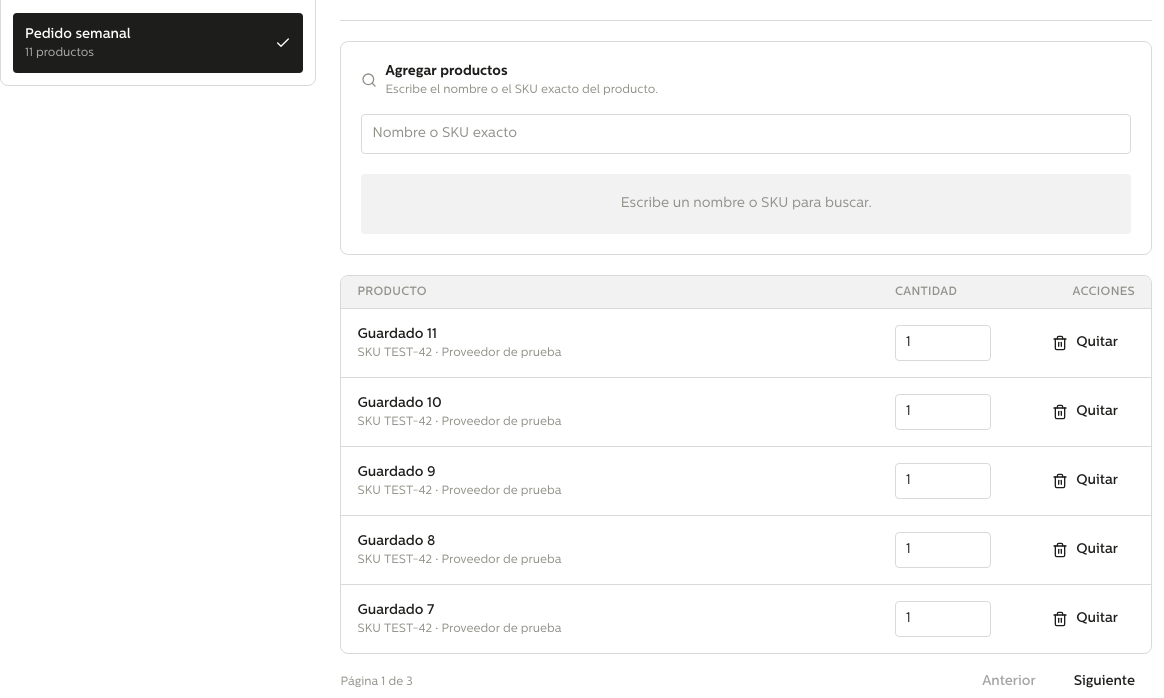
Test: editor de pedidos › muestra cinco por página y desplaza los más antiguos a las siguientes
(page scrolled)
Expected: the number of number fields is 5, [895, 325, 991, 361]; [895, 394, 991, 430]; [895, 463, 991, 499]; [895, 532, 991, 568]; [895, 601, 991, 637]
What coordinates should you click on to do the following:
click the button "Siguiente"
I would click on:
 (1104, 682)
Its box is [1057, 666, 1152, 697].
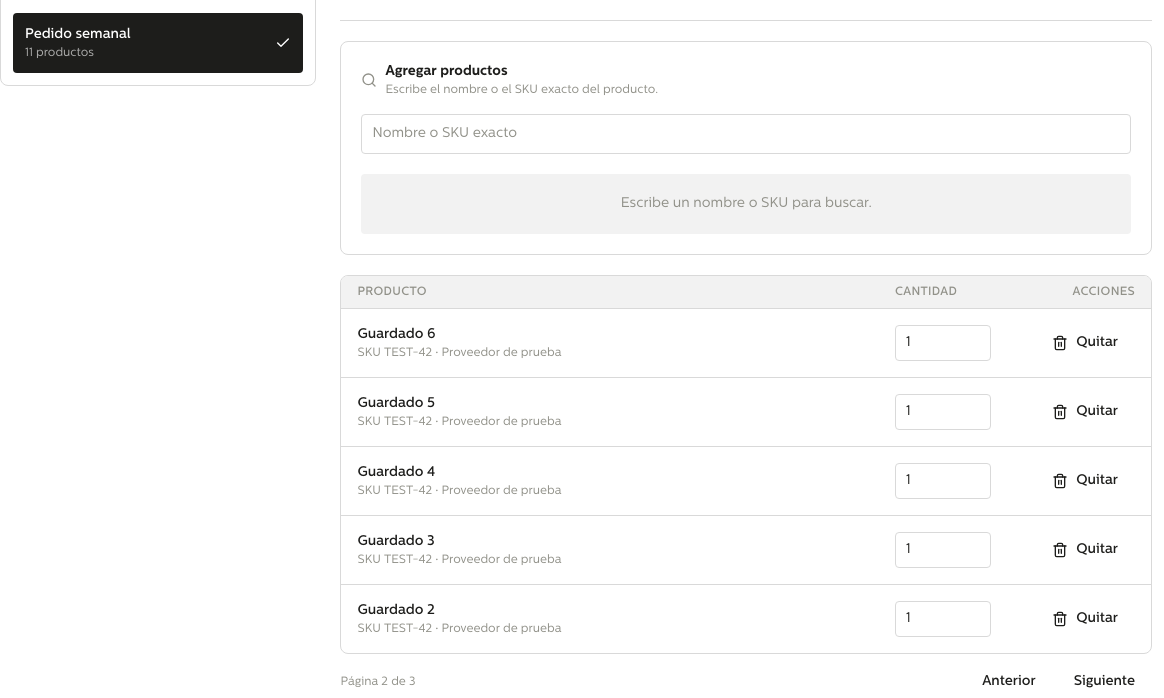
Expected: the number of number fields is 5, [895, 325, 991, 361]; [895, 394, 991, 430]; [895, 463, 991, 499]; [895, 532, 991, 568]; [895, 601, 991, 637]
Result: the link "Guardado 6" is shown at [358, 327, 436, 342]
What coordinates should you click on to do the following:
click the button "Siguiente"
I would click on:
 (1104, 682)
Its box is [1057, 666, 1152, 697].
(page scrolled)
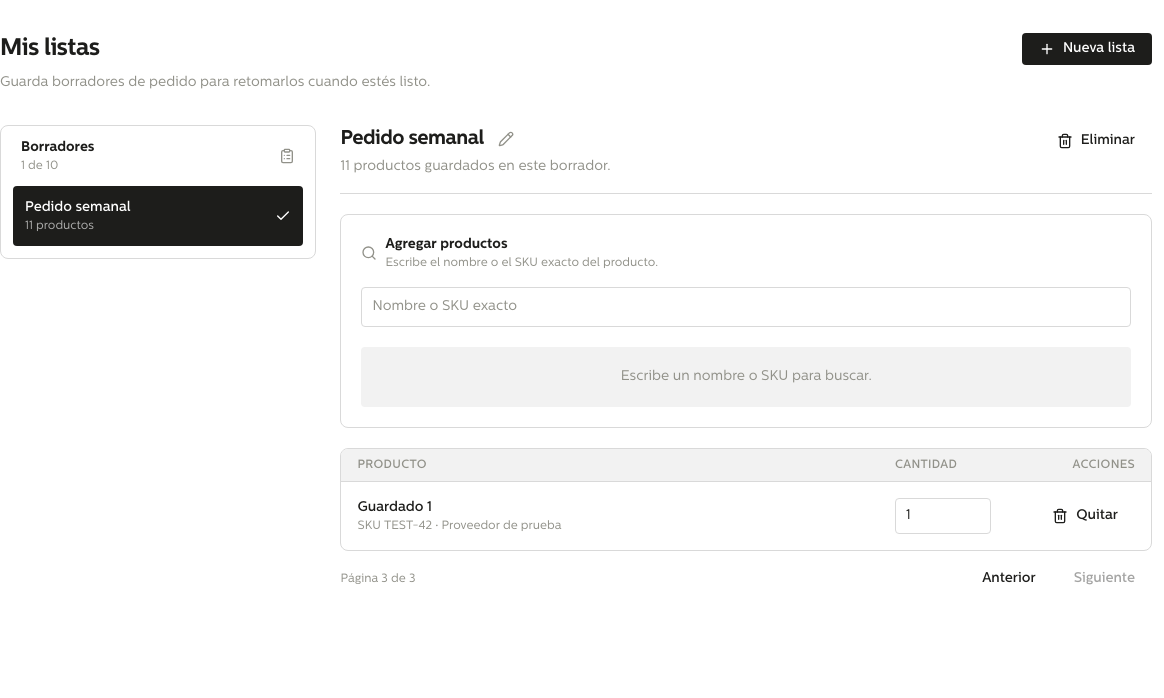
Result: the number of number fields is 1 at [895, 498, 991, 534]
Result: the link "Guardado 1" is shown at [358, 500, 432, 515]
